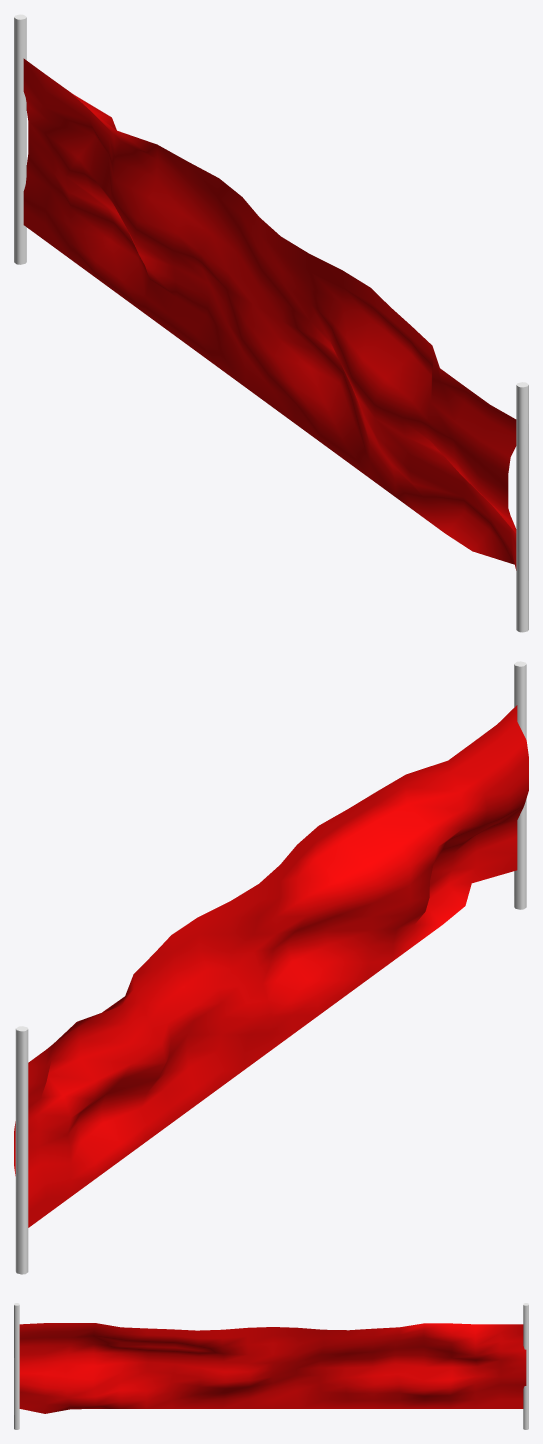
File: Grid_Fence_3d.fbx
The picture shows the model from 3 angles, top to bottom: view 1: azimuth 30°, elevation 25°; view 2: azimuth 150°, elevation 25°; view 3: azimuth 270°, elevation 25°; orthographic projection. The views are drawn at different scales.
Parts seen in each view (by area): view 1: Grid, Leg, Leg_2; view 2: Grid, Leg_2, Leg; view 3: Grid, Leg, Leg_2.
Boxes of the visible parts, x1,y1,x2,y2 form: Grid: (23,58,516,570); Leg: (516,382,528,632); Leg_2: (14,14,26,264); Grid: (14,705,528,1227); Leg_2: (15,1026,28,1274); Leg: (514,661,526,909); Grid: (19,1323,526,1413); Leg: (14,1303,19,1429); Leg_2: (523,1303,528,1429).
Bounding box in the file's own units: 19.48 × 96.11 × 361.
